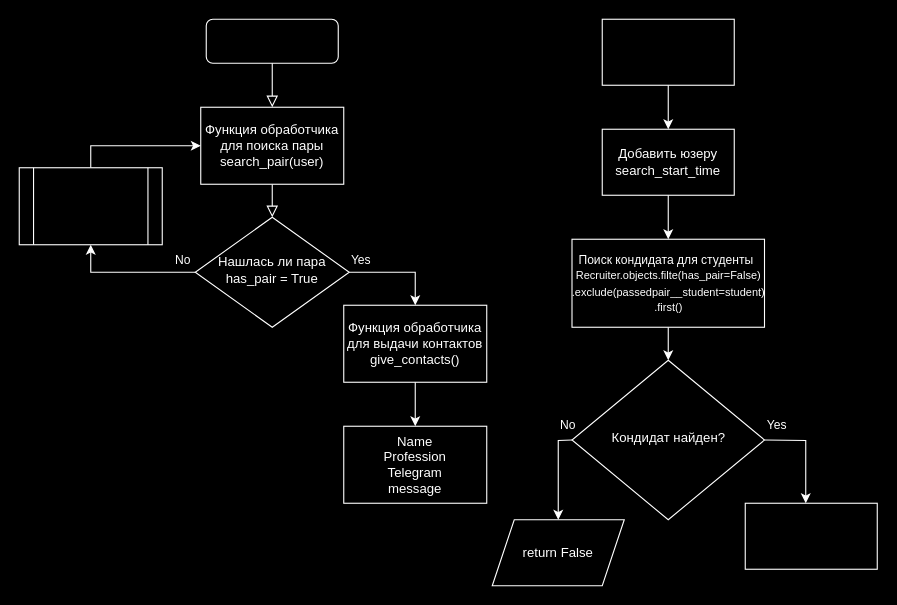
This 897x605 diagram has some shape labels left out. Here are the shapes that lost their labels. From the top down, the centre of each, then its label:
At pixel 271 40: "GO".
At pixel 667 51: "search_pair(user)".
At pixel 90 206: "Обработчик попробовать ешё раз button".
At pixel 810 535: "Создание CreatedPair make_pair()".
